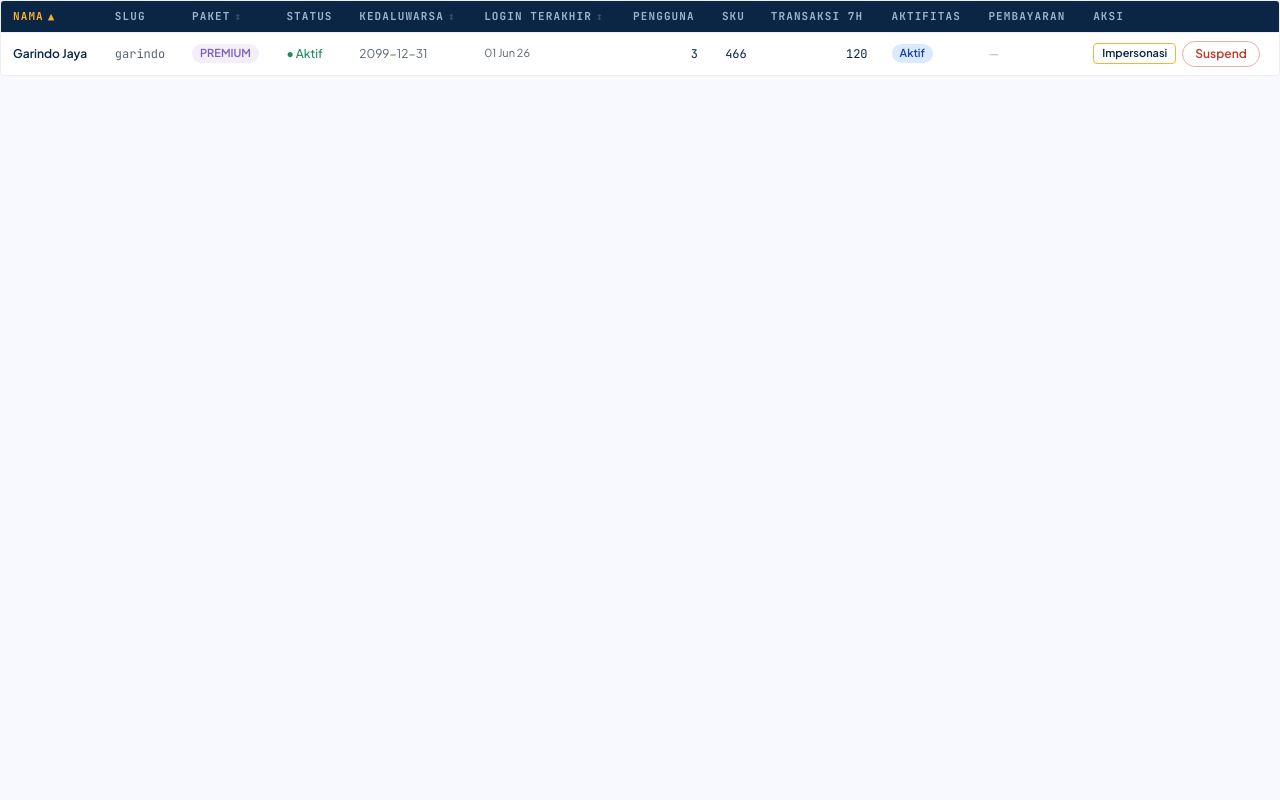
Test case: TenantsTable › clicking Suspend button opens SuspendTenantModal
Click the button with aria-label "suspend garindo jaya" at (1221, 54), box [1182, 41, 1260, 67]
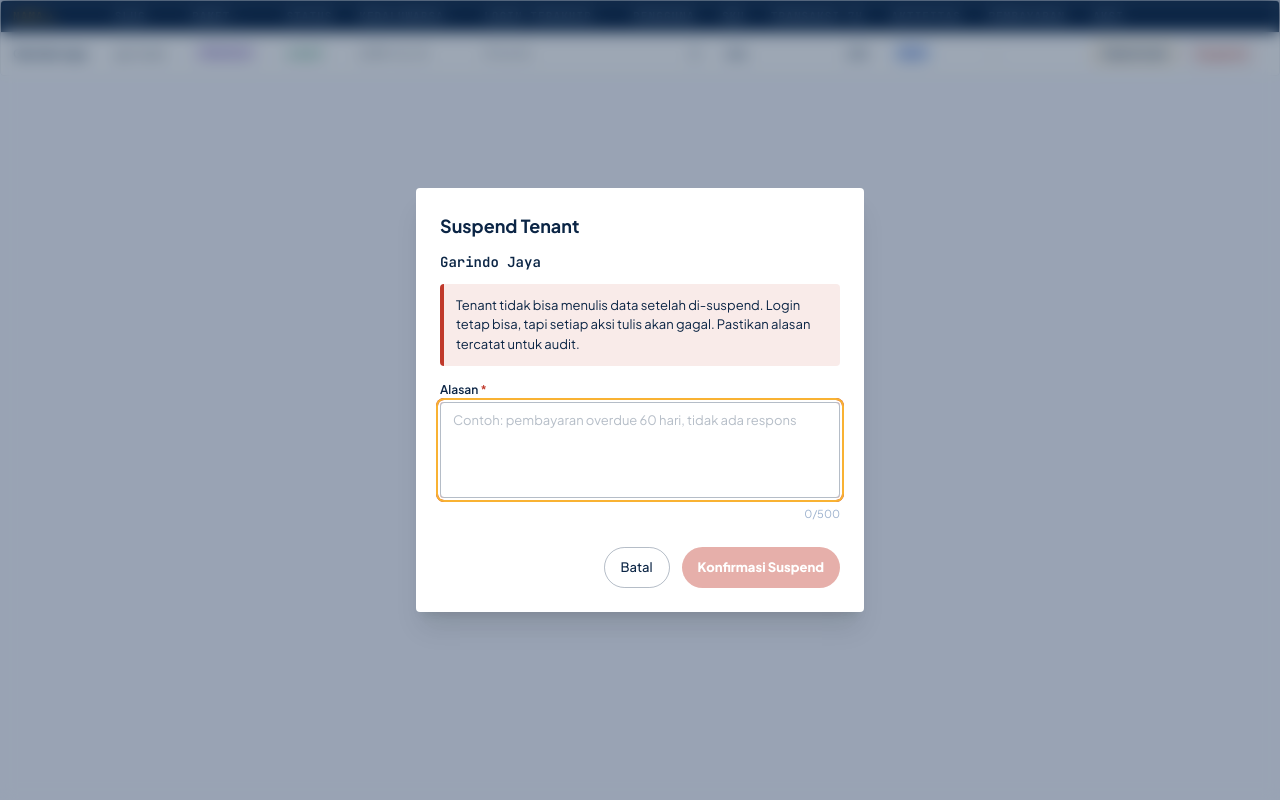
Check: the dialog is shown
Check: the heading "Suspend Tenant" is shown, box [440, 214, 579, 237]
